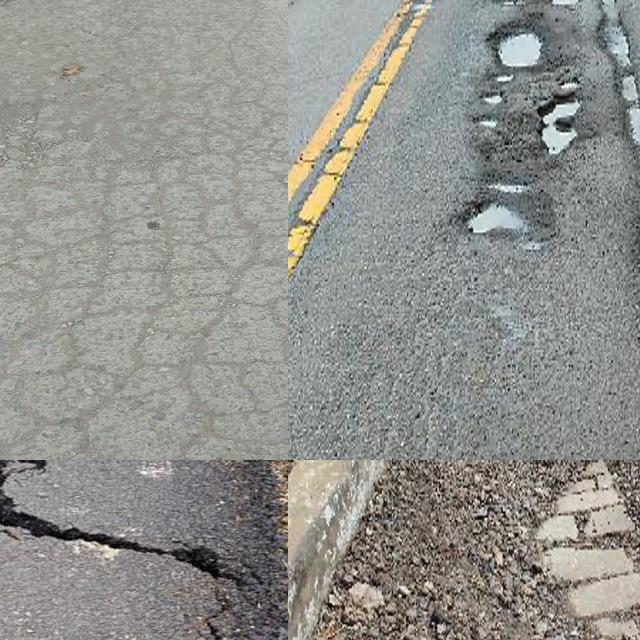Lubang: (498, 460, 640, 640), (590, 0, 640, 153), (465, 202, 539, 246), (487, 25, 546, 73), (538, 89, 583, 140), (486, 173, 527, 193), (480, 92, 501, 107)
Pinggir: (0, 460, 288, 593)
Retak Buaya: (0, 145, 288, 460)
